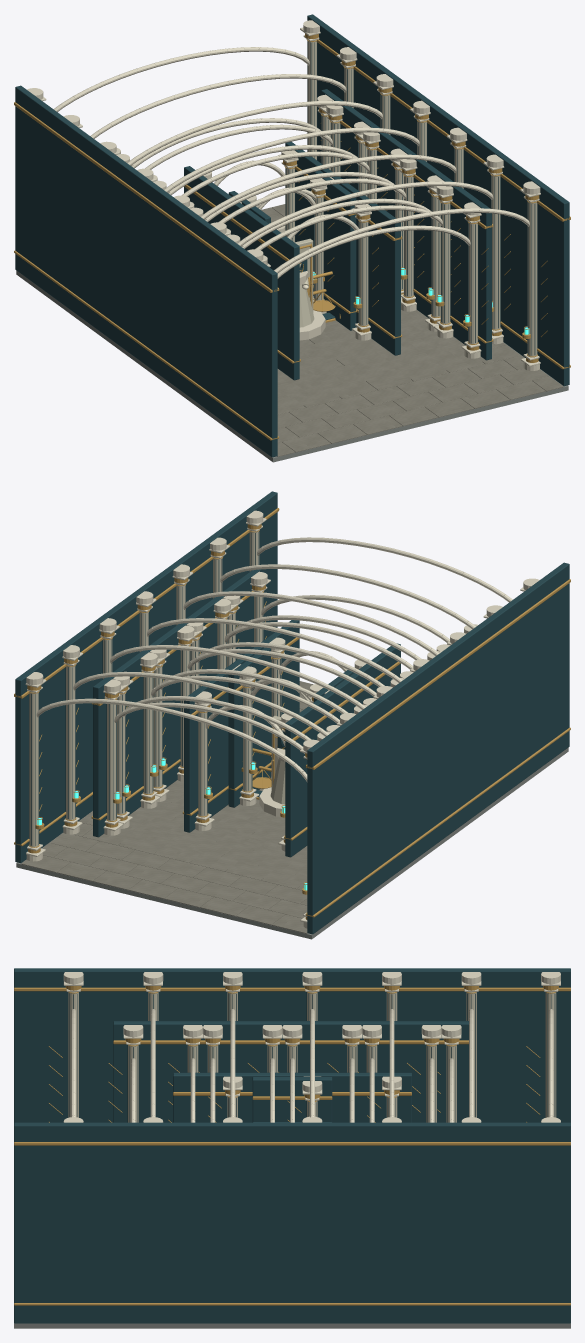
File: balance-temple-v05.glb
3 renders of one model, top to bottom at view 1: azimuth 30°, elevation 25°; view 2: azimuth 150°, elevation 25°; view 3: azimuth 270°, elevation 25°, orthographic. The views are drawn at different scales.
Parts seen in each view (by area): view 1: hall_lever_Midnight teal, hall_lever_Balance paving limestone, hall_lever_Carved limestone, hall_entry_Midnight teal, hall_twin_Midnight teal, hall_order_Carved limestone, hall_order_Midnight teal, hall_twin_Carved limestone, hall_lever_Ivory limestone, hall_lever_Aged brass, hall_corridor_Midnight teal, hall_order_Balance paving limestone (+12 smaller); view 2: hall_lever_Midnight teal, hall_lever_Balance paving limestone, hall_lever_Carved limestone, hall_entry_Midnight teal, hall_twin_Midnight teal, hall_order_Carved limestone, hall_order_Midnight teal, hall_twin_Carved limestone, hall_lever_Ivory limestone, hall_lever_Aged brass, hall_order_Balance paving limestone, hall_order_Ivory limestone (+12 smaller); view 3: hall_lever_Midnight teal, hall_order_Midnight teal, hall_lever_Carved limestone, hall_lever_Aged brass, hall_twin_Midnight teal, hall_entry_Midnight teal, hall_lever_Ivory limestone, hall_order_Carved limestone, Paving foundation hall_lever, hall_twin_Carved limestone, hall_corridor_Midnight teal, hall_order_Ivory limestone (+5 smaller).
Boxes of the visible parts, bbox=[...] form: hall_lever_Midnight teal: bbox=[15, 14, 569, 457]; hall_lever_Balance paving limestone: bbox=[261, 204, 563, 456]; hall_lever_Carved limestone: bbox=[27, 20, 540, 370]; hall_entry_Midnight teal: bbox=[184, 141, 400, 380]; hall_twin_Midnight teal: bbox=[331, 96, 481, 345]; hall_order_Carved limestone: bbox=[116, 94, 481, 358]; hall_order_Midnight teal: bbox=[321, 89, 491, 360]; hall_twin_Carved limestone: bbox=[116, 105, 453, 338]; hall_lever_Ivory limestone: bbox=[307, 40, 537, 356]; hall_lever_Aged brass: bbox=[14, 33, 570, 440]; hall_corridor_Midnight teal: bbox=[228, 170, 356, 330]; hall_order_Balance paving limestone: bbox=[277, 312, 485, 405]; hall_lever_Midnight teal: bbox=[15, 491, 569, 934]; hall_lever_Balance paving limestone: bbox=[21, 681, 313, 933]; hall_lever_Carved limestone: bbox=[25, 510, 539, 928]; hall_entry_Midnight teal: bbox=[184, 620, 400, 857]; hall_twin_Midnight teal: bbox=[103, 573, 254, 815]; hall_order_Carved limestone: bbox=[103, 571, 477, 835]; hall_order_Midnight teal: bbox=[93, 569, 263, 837]; hall_twin_Carved limestone: bbox=[113, 595, 450, 828]; hall_lever_Ivory limestone: bbox=[29, 530, 259, 846]; hall_lever_Aged brass: bbox=[14, 508, 570, 919]; hall_order_Balance paving limestone: bbox=[100, 790, 307, 887]; hall_order_Ivory limestone: bbox=[107, 591, 263, 820]; hall_lever_Midnight teal: bbox=[14, 968, 570, 1323]; hall_order_Midnight teal: bbox=[113, 1021, 468, 1122]; hall_lever_Carved limestone: bbox=[63, 972, 560, 1122]; hall_lever_Aged brass: bbox=[14, 986, 570, 1305]; hall_twin_Midnight teal: bbox=[134, 1021, 450, 1122]; hall_entry_Midnight teal: bbox=[173, 1072, 411, 1122]; hall_lever_Ivory limestone: bbox=[68, 992, 556, 1117]; hall_order_Carved limestone: bbox=[123, 1025, 461, 1122]; Paving foundation hall_lever: bbox=[14, 1323, 570, 1328]; hall_twin_Carved limestone: bbox=[183, 1025, 441, 1122]; hall_corridor_Midnight teal: bbox=[252, 1077, 332, 1122]; hall_order_Ivory limestone: bbox=[128, 1044, 456, 1122].
Bounding box in the file's own units: 18.91 × 11.3 × 28.
11 materials, 1 textured.
